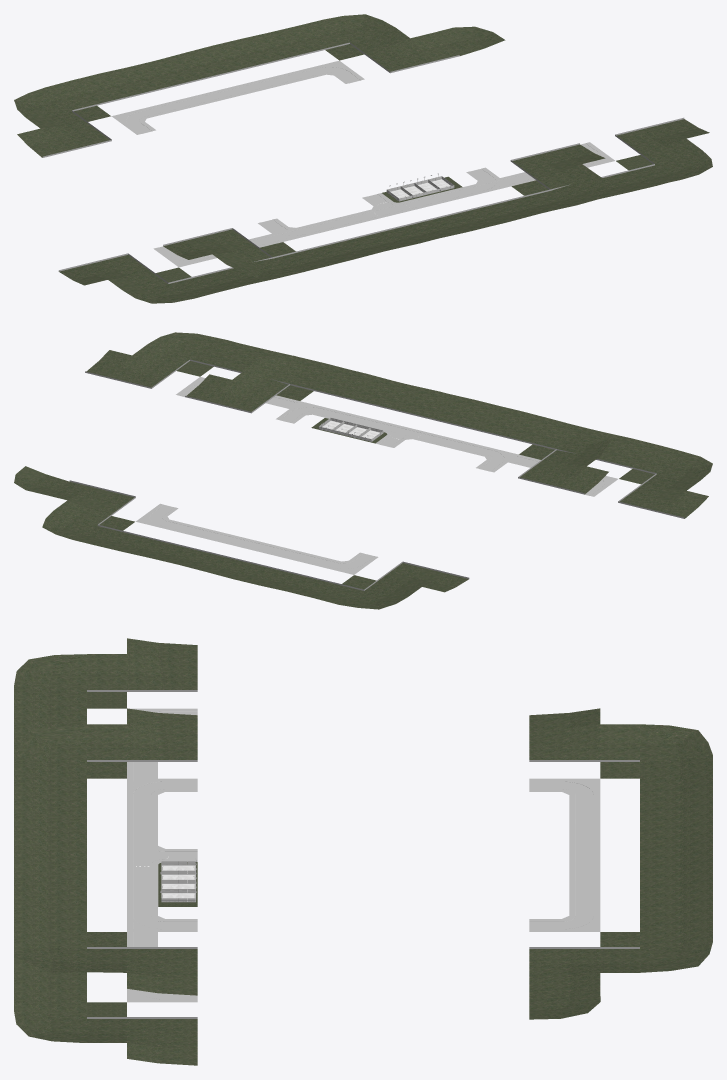
File: Border-Block-02.fbx
The picture shows the model from 3 angles, top to bottom: view 1: azimuth 30°, elevation 25°; view 2: azimuth 150°, elevation 25°; view 3: azimuth 270°, elevation 25°; orthographic projection. The views are drawn at different scales.
Visible parts, largest first — view 1: BD-BL, BD-TR3, BD-TR, BD-BL-Sidewalk, BD-TR3-Sidewalk, BD-TR-Sidewalk, BD-G; view 2: BD-TR3, BD-BL, BD-TR, BD-BL-Sidewalk, BD-TR-Sidewalk, BD-TR3-Sidewalk, BD-G; view 3: BD-TR3, BD-BL, BD-TR, BD-BL-Sidewalk, BD-TR3-Sidewalk, BD-TR-Sidewalk, BD-G.
Part boxes in pixels (box(x1,y1,x2,y2)): BD-BL: box(14, 14, 459, 157); BD-TR3: box(58, 117, 712, 303); BD-TR: box(163, 143, 610, 277); BD-BL-Sidewalk: box(111, 60, 364, 134); BD-TR3-Sidewalk: box(153, 142, 614, 267); BD-TR-Sidewalk: box(258, 167, 510, 241); BD-G: box(434, 26, 505, 55); BD-TR3: box(85, 332, 712, 518); BD-BL: box(42, 480, 469, 609); BD-TR: box(185, 355, 611, 494); BD-BL-Sidewalk: box(136, 503, 378, 574); BD-TR-Sidewalk: box(276, 402, 517, 472); BD-TR3-Sidewalk: box(176, 377, 617, 496); BD-G: box(14, 466, 68, 494); BD-TR3: box(14, 638, 197, 1065); BD-BL: box(529, 708, 712, 995); BD-TR: box(14, 708, 197, 995); BD-BL-Sidewalk: box(529, 778, 600, 931); BD-TR3-Sidewalk: box(127, 708, 197, 1002); BD-TR-Sidewalk: box(127, 778, 197, 931); BD-G: box(529, 989, 600, 1019).
Size of what is drawn, in the model's own units: 90000 by 878 by 63215.
